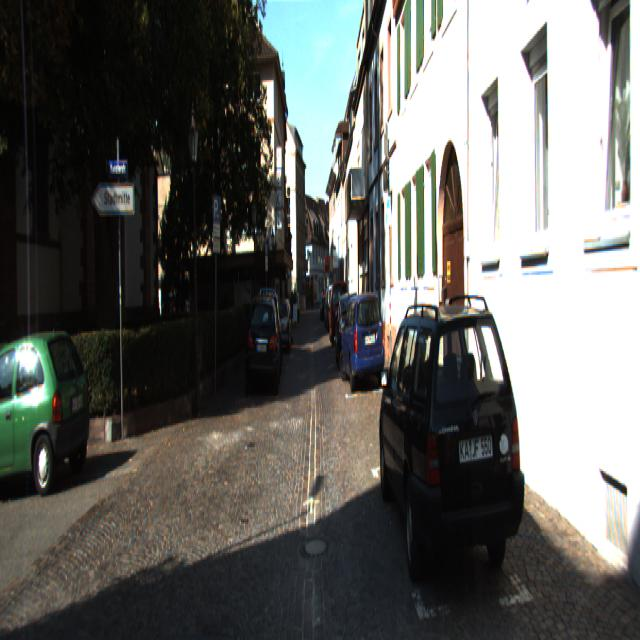Car: (376, 284, 533, 614), (0, 327, 99, 504), (341, 287, 386, 396), (247, 288, 283, 391), (335, 292, 366, 370), (329, 279, 348, 344), (272, 297, 293, 352)
